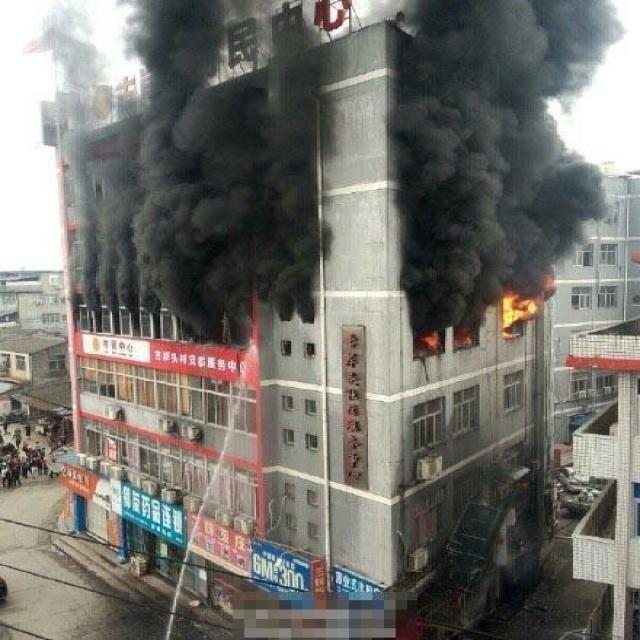Fire: (502, 290, 540, 338), (420, 334, 440, 349)
Smoke: (39, 1, 333, 345), (362, 1, 628, 278), (406, 278, 490, 330)
